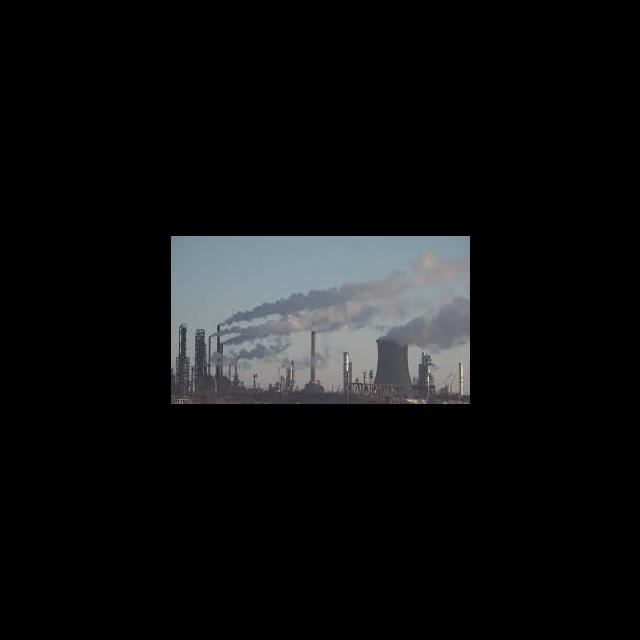Smoke: (210, 282, 344, 358), (387, 294, 468, 340)
